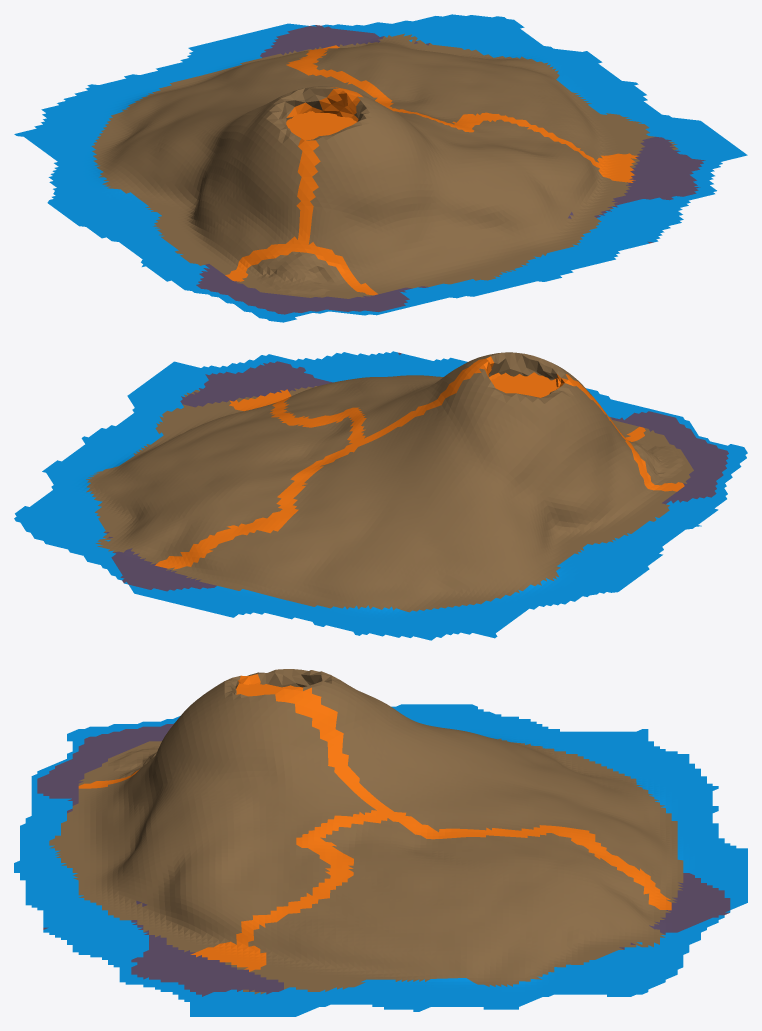
Rendered from NewLevel1.fbx.
3 views of the same model, one above another, from view 1: azimuth 30°, elevation 25°; view 2: azimuth 150°, elevation 25°; view 3: azimuth 270°, elevation 25° (orthographic). The views are drawn at different scales.
Visible parts, largest first — view 1: Volcano, Circle; view 2: Volcano, Circle; view 3: Volcano.
Part boxes in pixels (x1,y1,x2,y2): Volcano: (14,14,747,322); Circle: (286,111,356,139); Volcano: (14,351,747,640); Circle: (491,372,559,397); Volcano: (14,669,747,1016).
Size of the model in its own units: 4000 by 792 by 3968.
